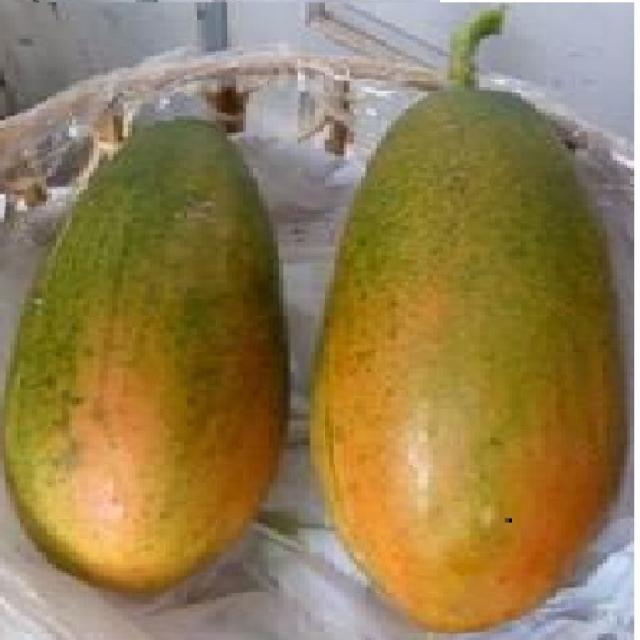Pepaya rippen: (306, 81, 633, 638), (5, 116, 296, 607)
